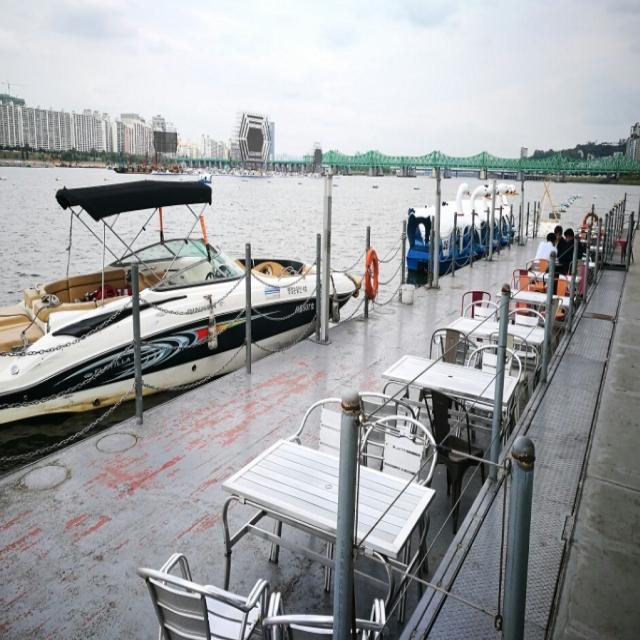houseboat: (12, 206, 330, 363), (401, 168, 534, 246)
